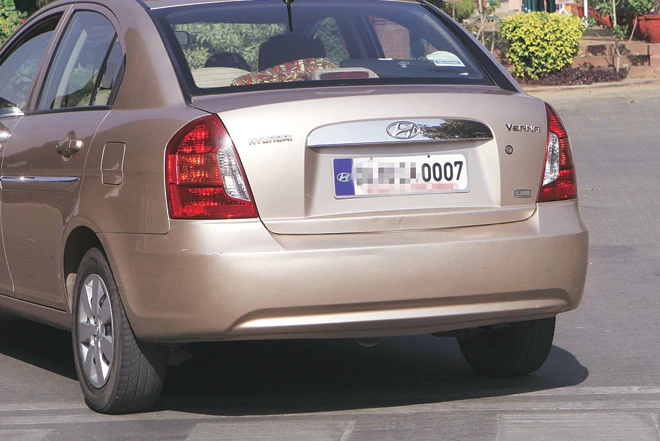license plate: (328, 155, 474, 197)
